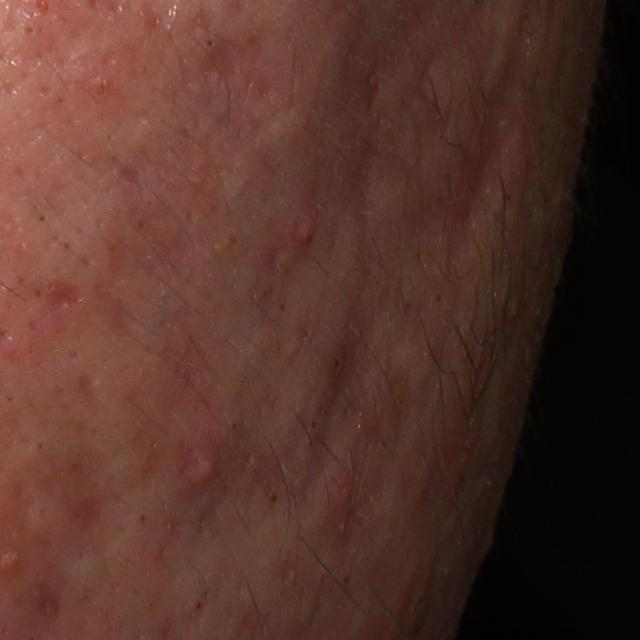atrophic_scar: (44, 276, 86, 316), (76, 372, 102, 408)
comedo: (204, 36, 219, 49)
papule: (187, 440, 227, 493), (285, 211, 318, 256), (330, 475, 357, 526)
